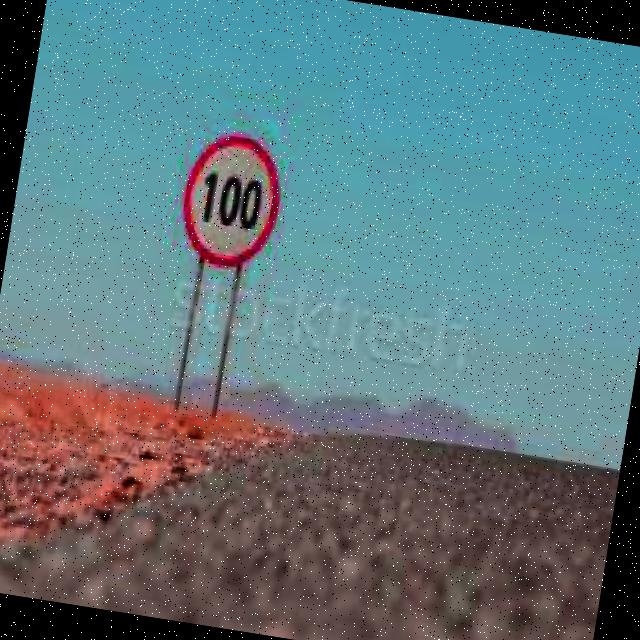Ograniczenie predkosci do 100: (173, 133, 294, 274)
